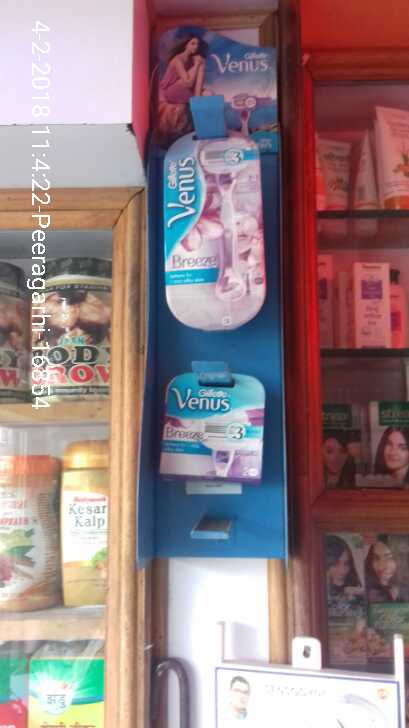venus: (160, 121, 271, 334), (162, 370, 273, 482)
